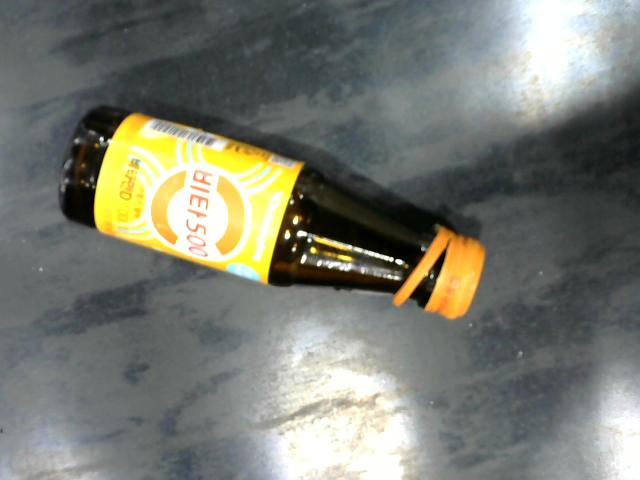glass: (53, 104, 488, 323)
